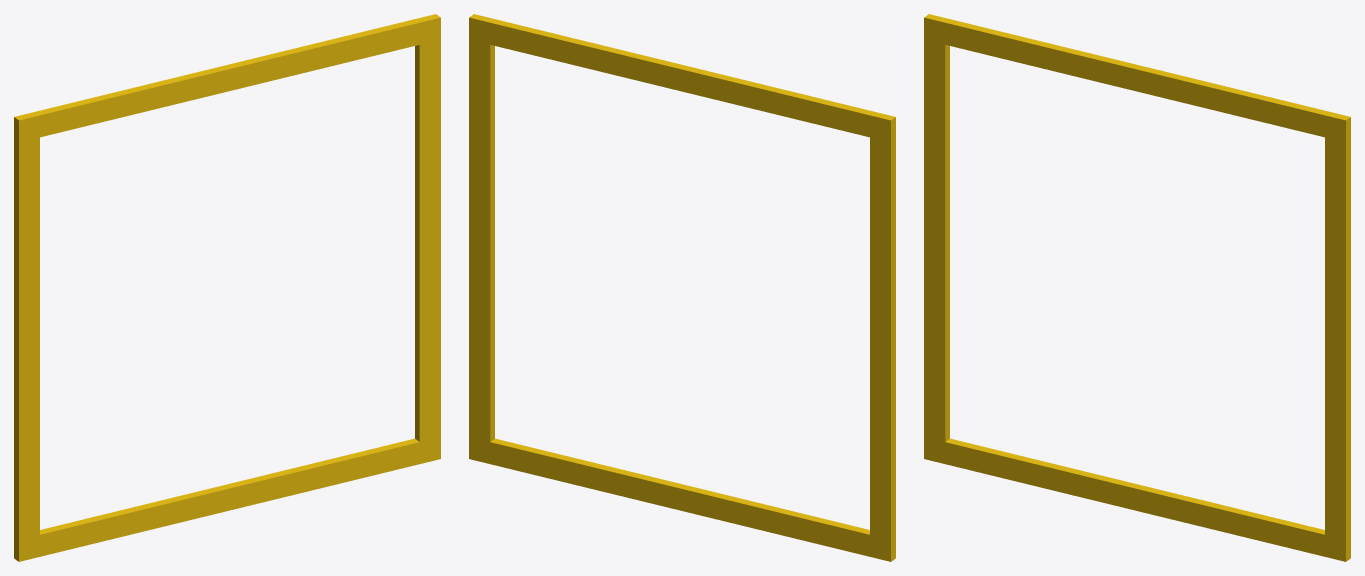
The model's file is square_frame_yellow.obj.
3 renders of one model, left to right at view 1: azimuth 30°, elevation 25°; view 2: azimuth 150°, elevation 25°; view 3: azimuth 330°, elevation 25°, orthographic.
Visible parts, largest first — view 1: square_frame_yellow; view 2: square_frame_yellow; view 3: square_frame_yellow.
Boxes of the visible parts, left/top/right/bottom form: square_frame_yellow: left=14, top=14, right=440, bottom=561; square_frame_yellow: left=469, top=14, right=895, bottom=561; square_frame_yellow: left=924, top=14, right=1350, bottom=561.
Size of the model in its own units: 0.1 by 0.1 by 0.002.
